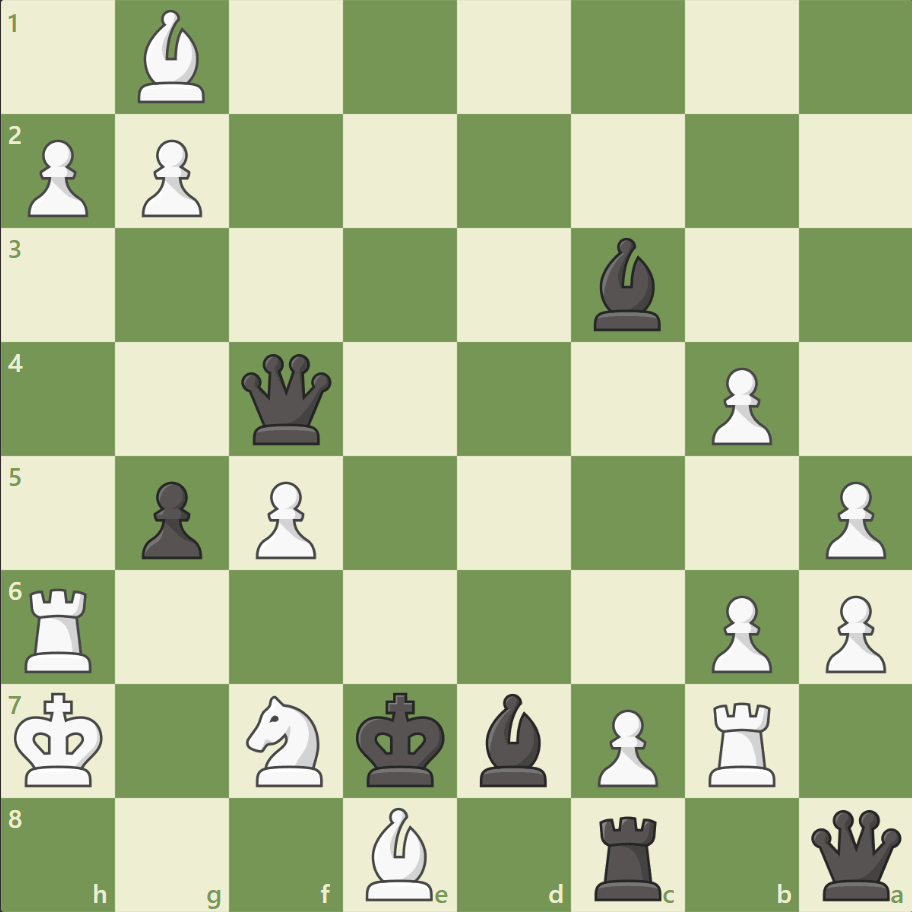B: (358, 801, 442, 904), (131, 6, 215, 109)
K: (11, 685, 111, 793)
N: (238, 688, 335, 791)
P: (701, 586, 776, 677), (247, 473, 322, 564), (701, 359, 776, 450), (133, 132, 208, 223), (20, 132, 95, 223), (588, 700, 662, 791), (815, 586, 889, 677), (815, 473, 889, 564)
R: (700, 693, 783, 790), (19, 579, 102, 676)
b: (471, 687, 555, 790), (585, 233, 669, 336)
k: (351, 685, 451, 793)
p: (133, 473, 208, 564)
q: (237, 349, 336, 449), (805, 804, 904, 903)
r: (587, 806, 670, 904)
